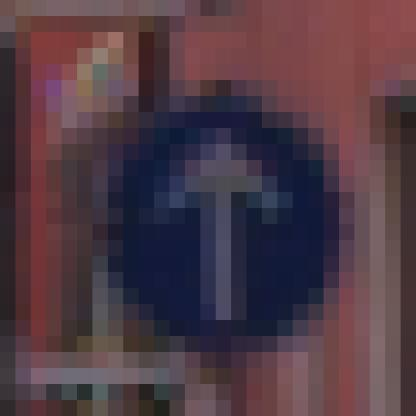AheadOnly: (78, 81, 325, 337)
